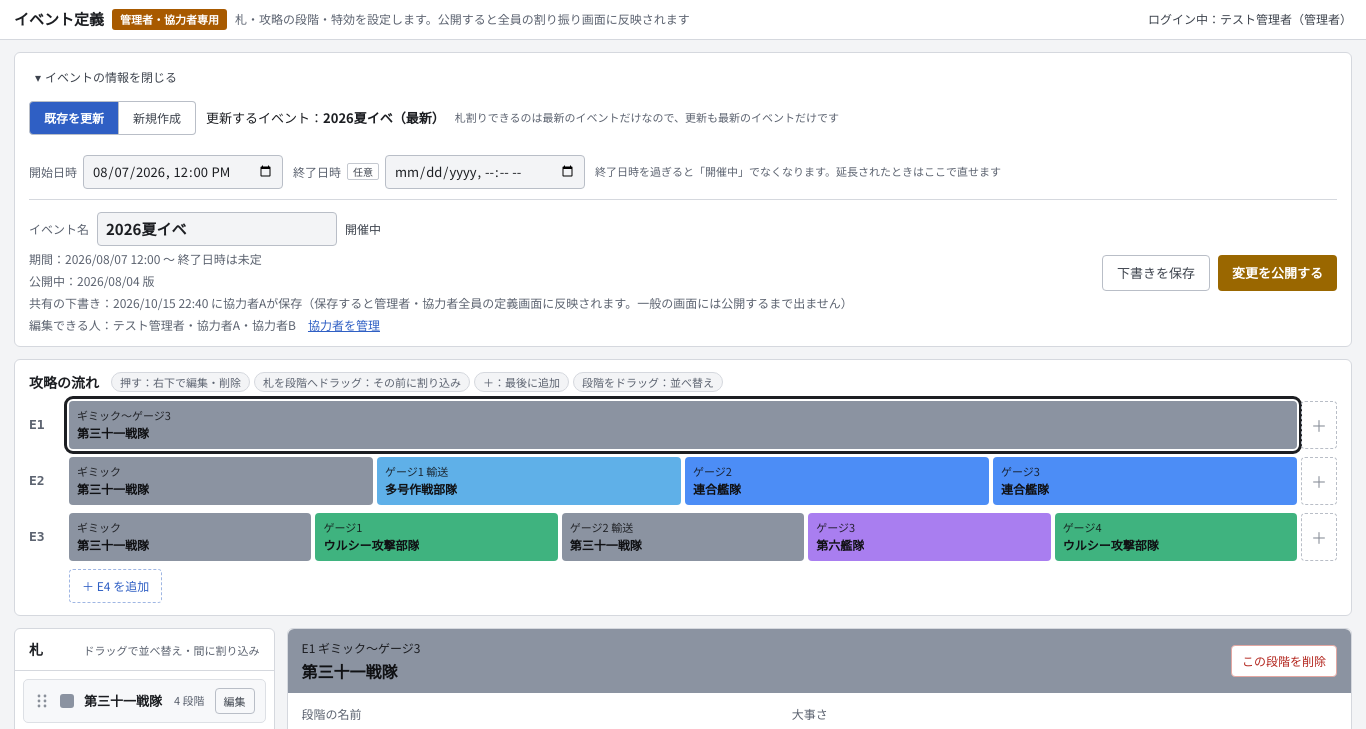
Test: イベント定義の画面（PlanEditor）：段階の詳細 › 段階の名前・札・大事さ › 選んだ段階の海域と段階名・札名、段階の名前の欄、使う札（札の一覧の札から 1 つ）、大事さを出す
This screenshot has width=1366, height=729.
Expected: the element "攻略の流れ" is shown, top-left (14, 358), bottom-right (1352, 616)
What coordinates should you click on to do the following:
click the button "ゲージ3 連合艦隊"
I would click on:
 (1020, 470)
Its box is top-left (993, 456), bottom-right (1297, 504).
(page scrolled)
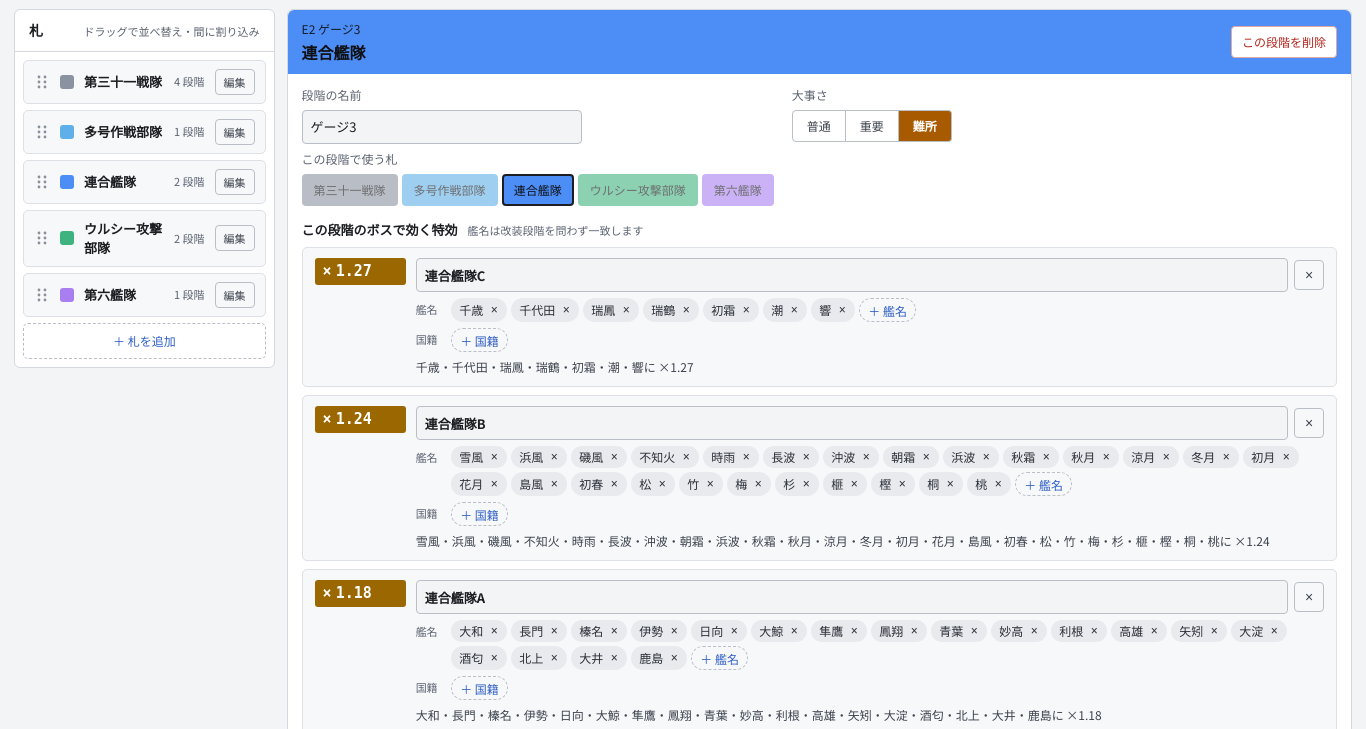
Result: the element named "段階の詳細" shows "E2 ゲージ3" at top-left (302, 20), bottom-right (360, 36)
Result: the field labelled "段階の名前" holds "ゲージ3" at top-left (302, 110), bottom-right (582, 144)
Result: the radio button labelled "連合艦隊" is checked at top-left (502, 174), bottom-right (574, 206)
